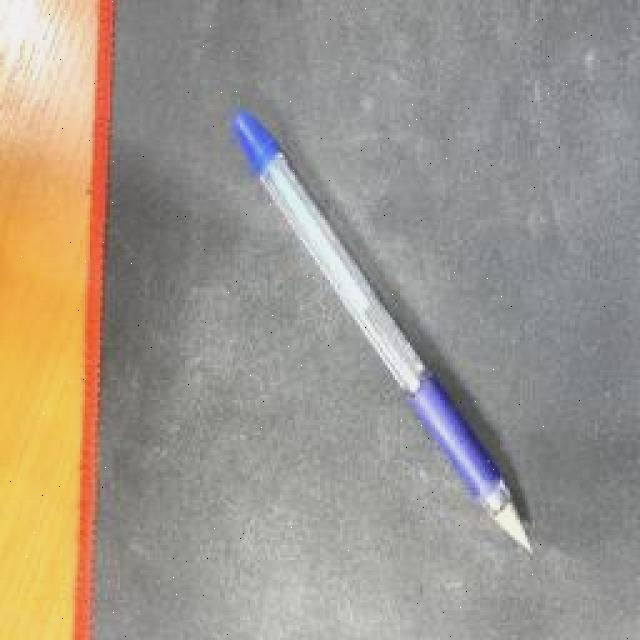pen: (230, 105, 532, 555)
